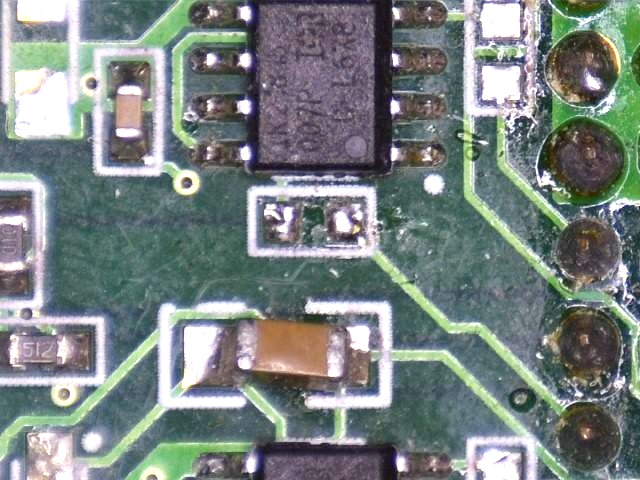pcb_defect: (181, 319, 370, 390)
